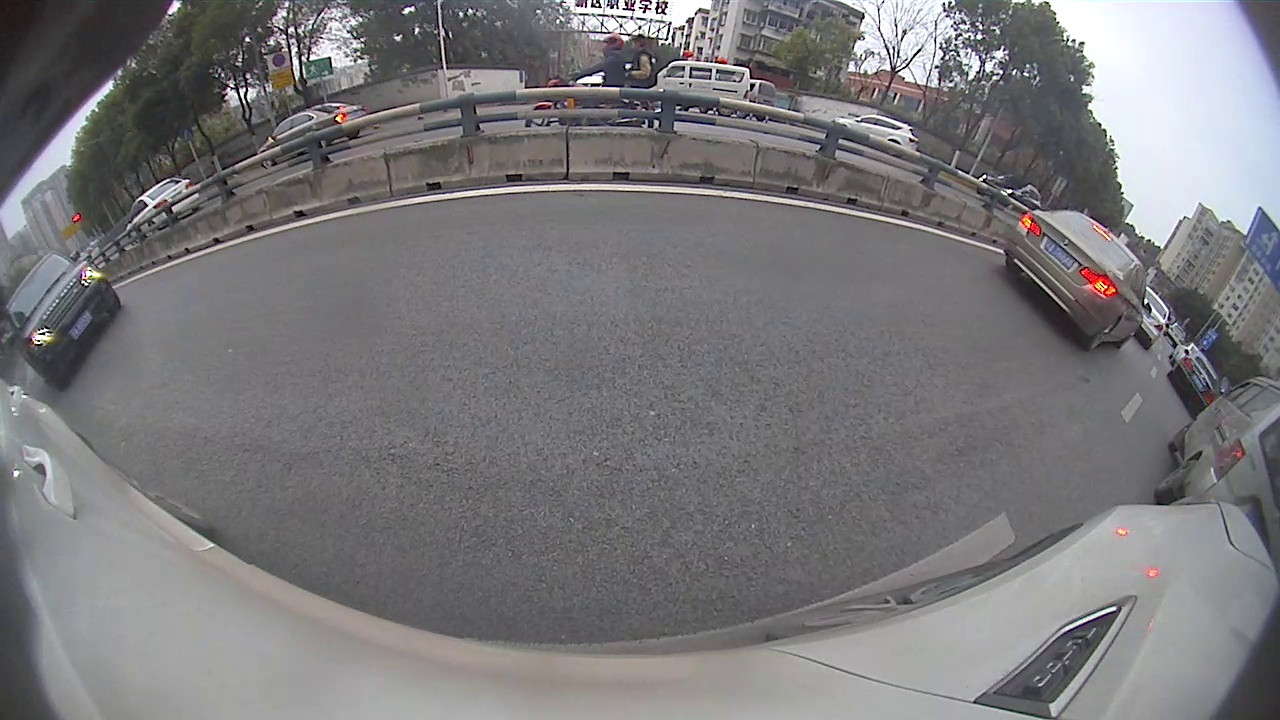car: (1151, 369, 1279, 583), (1000, 207, 1154, 354), (1, 250, 124, 394)
rear: (1154, 458, 1199, 498)
